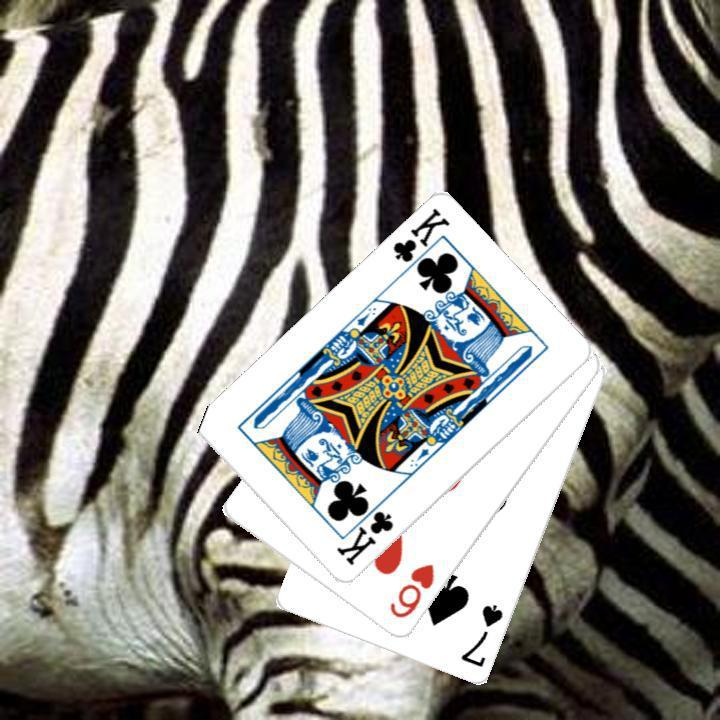6: (385, 560, 437, 621)
7: (457, 600, 506, 670)
K: (388, 204, 452, 279), (331, 494, 395, 568)
